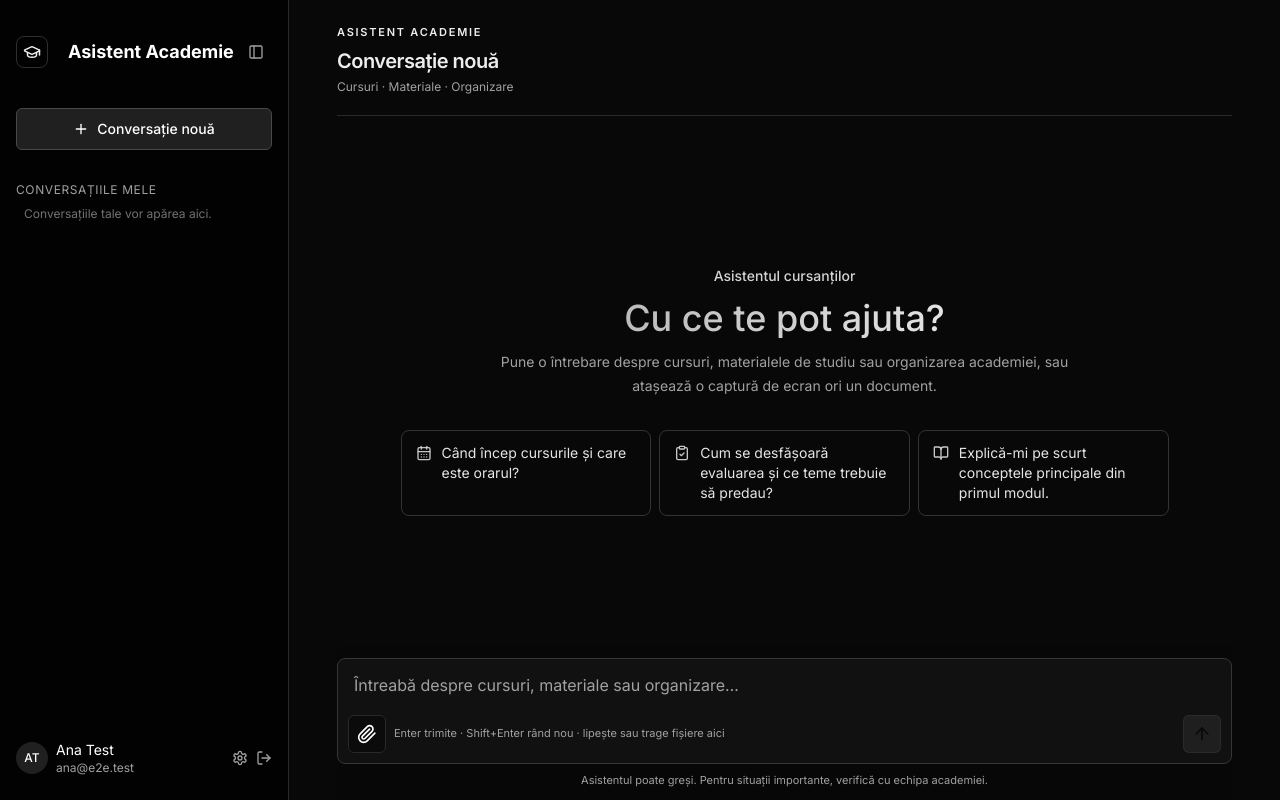
Test: CHAT-01 Start a session › CHAT-01 answered (S35): a reply that ends before the chat's server copy loads does not crash
Click the field named "Întrebarea ta".
click(784, 686)  # box left=338, top=658, right=1231, bottom=714
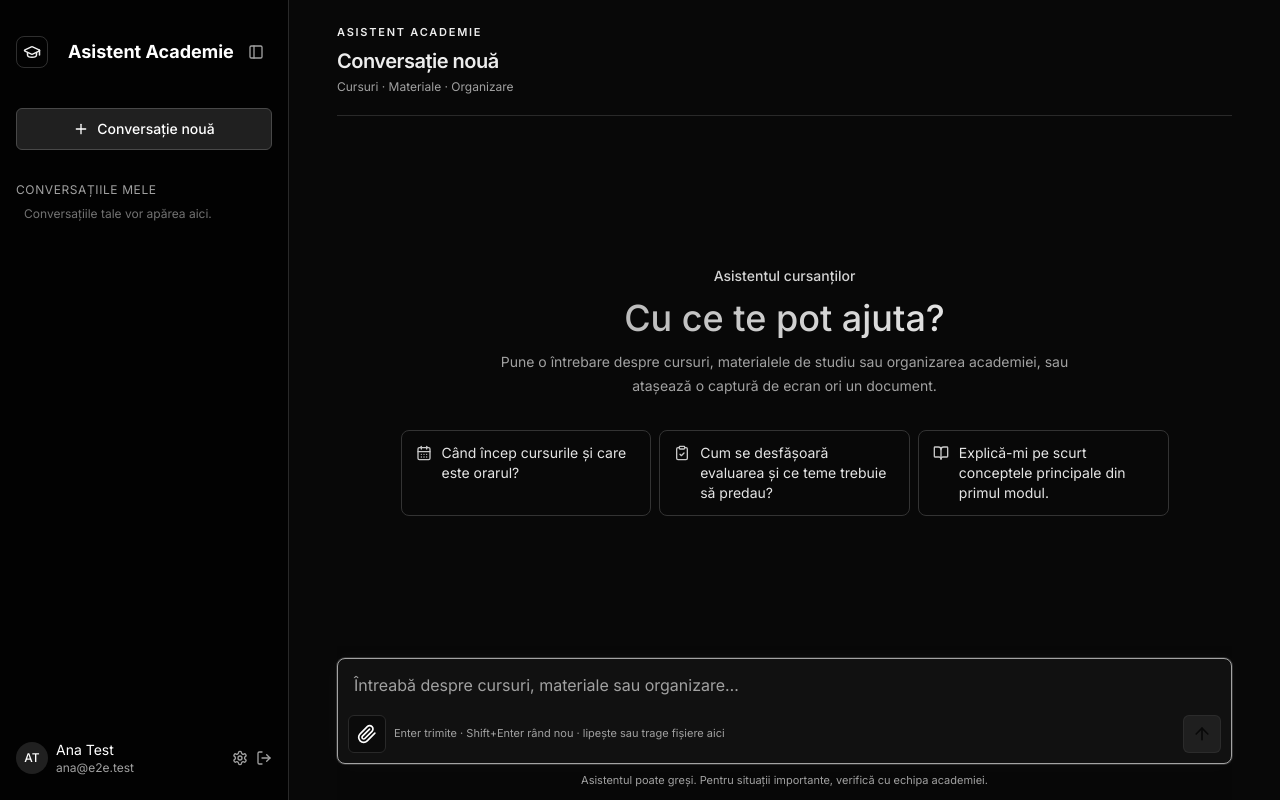
Type keys "Ce prevede contractul de muncă?{Enter}"
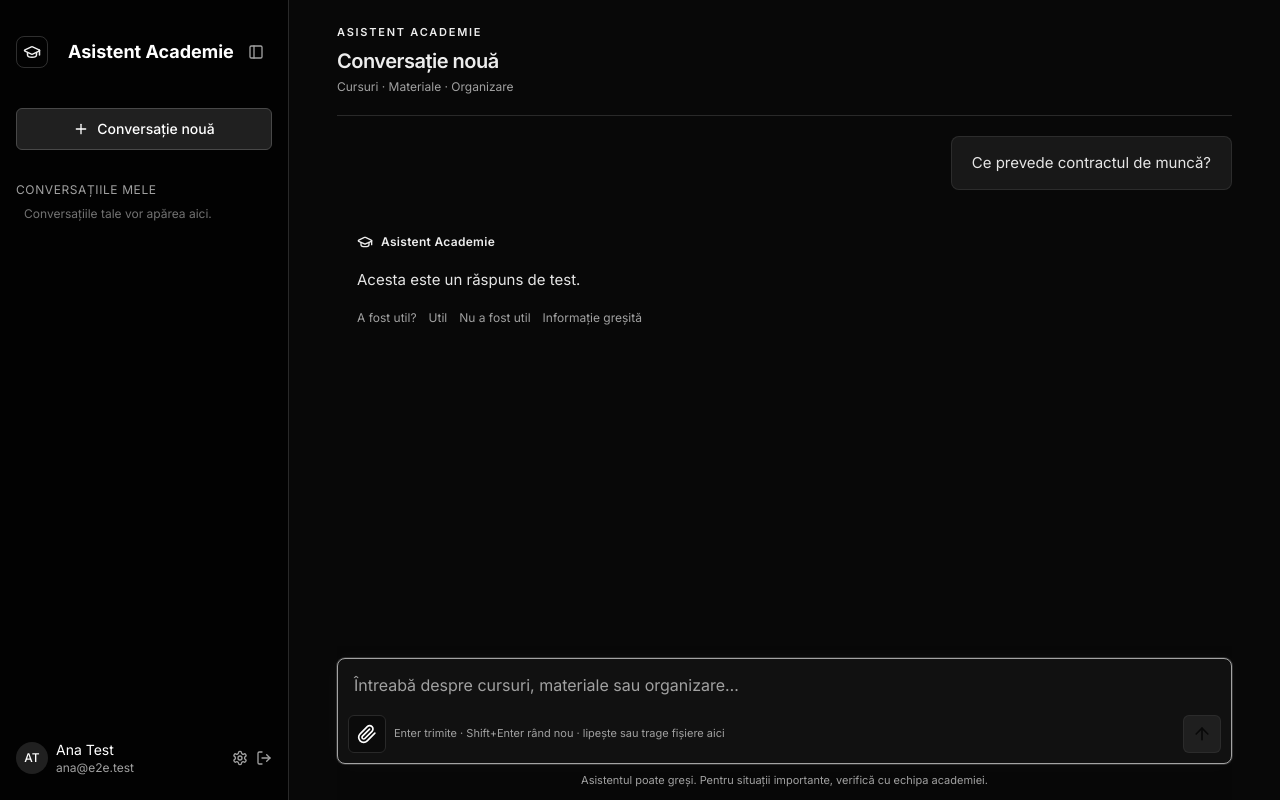
Expected: the text "Acesta este un răspuns de test." is shown once, left=357, top=270, right=580, bottom=288
